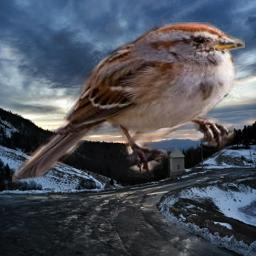Sparrow: (12, 19, 245, 197)
